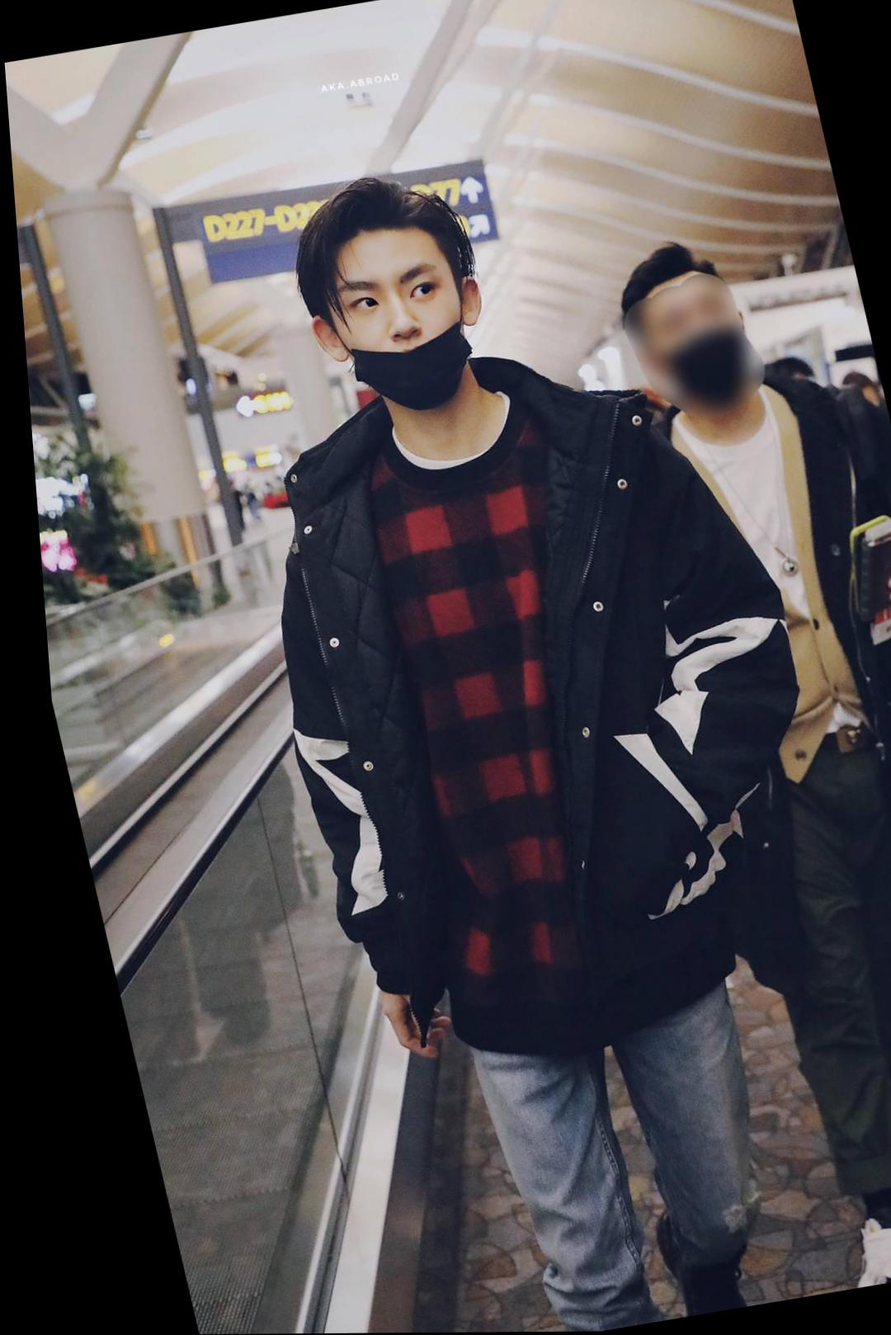OK: (633, 277, 753, 403)
WRONG: (317, 246, 478, 423)
